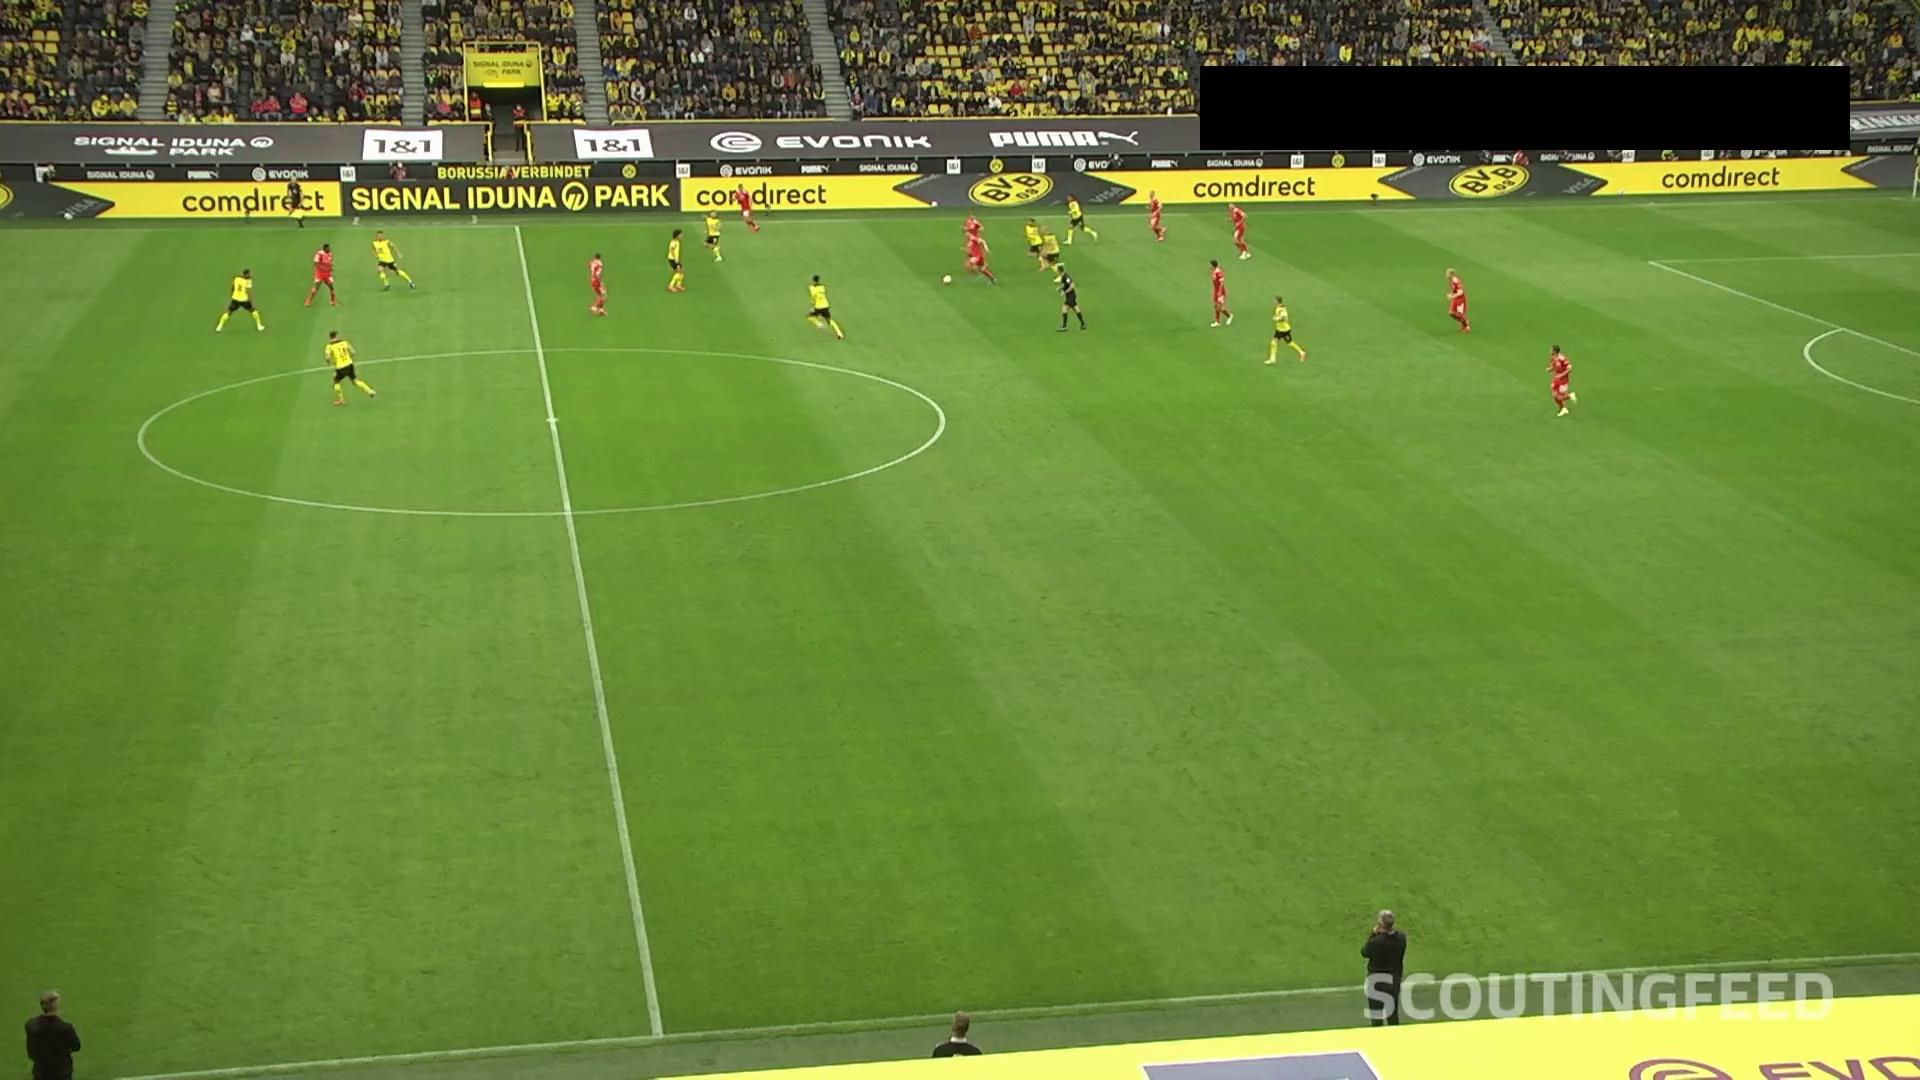Location-of-ball: (940, 265, 965, 291)
